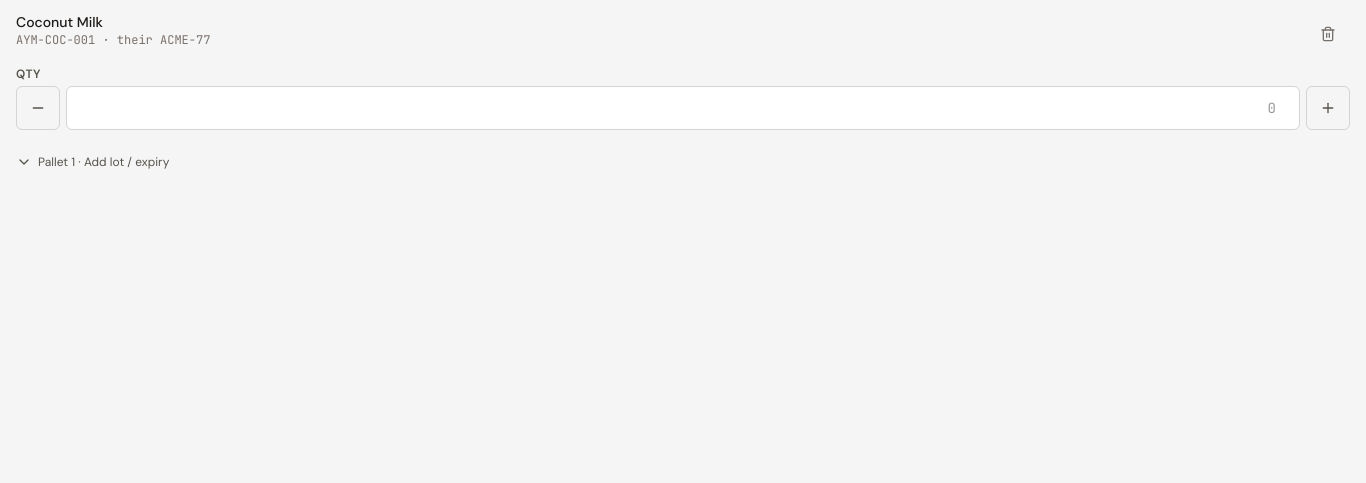
Test: the disclosure › opens and closes
Click the button "Pallet 1 · Add lot / expiry" at (104, 162), box 12,140 -> 1354,184
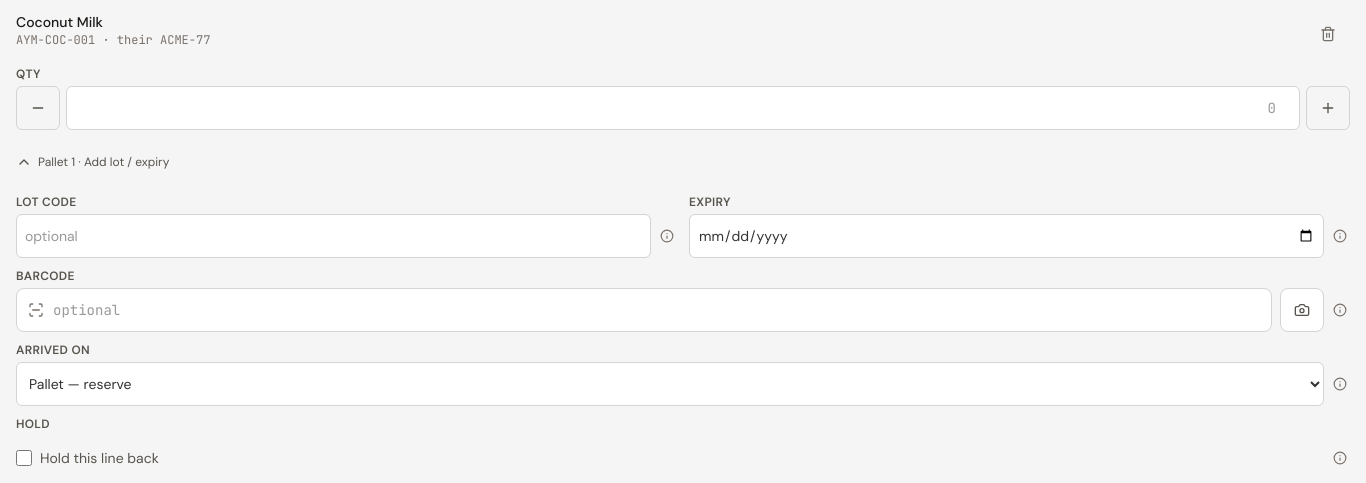
expect the button "Pallet 1 · Add lot / expiry" is expanded: met
Click the button "Pallet 1 · Add lot / expiry" at (104, 162), box 12,140 -> 1354,184
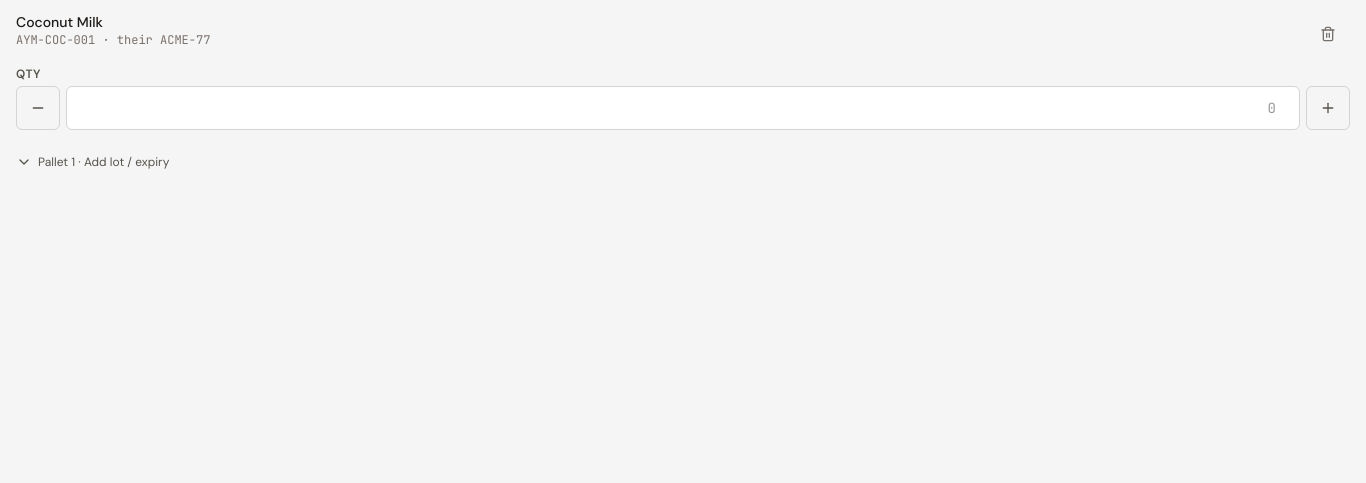
expect the button "Pallet 1 · Add lot / expiry" is collapsed: met, box 12,140 -> 1354,184
